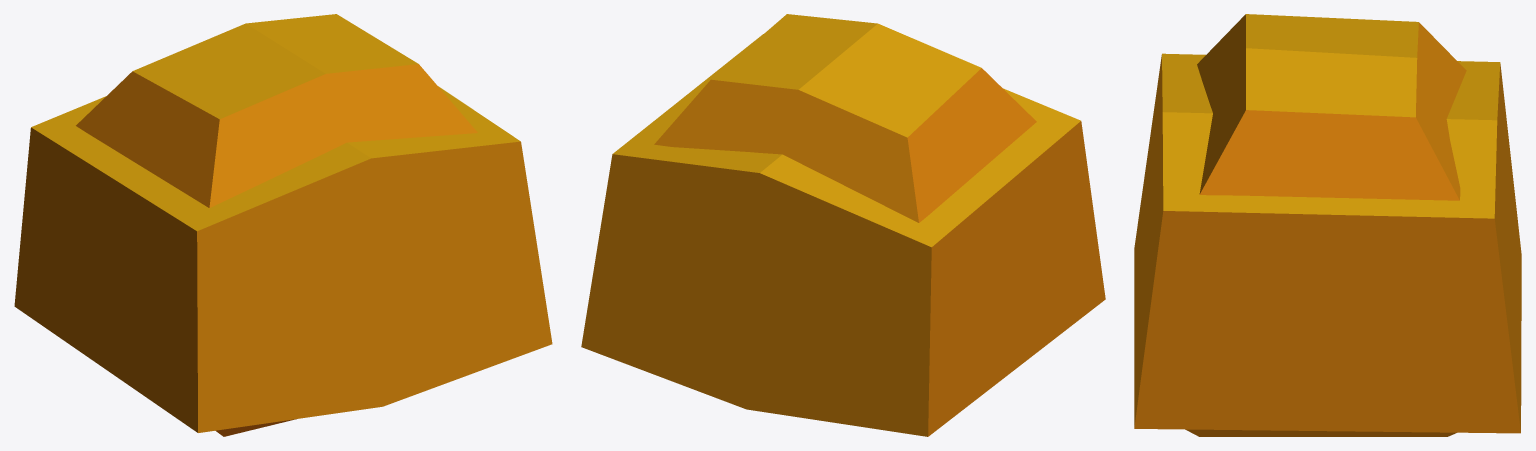
The model's file is SF_Env_Tree_Fall_09.fbx.
3 views of the same model, side by side, from view 1: azimuth 30°, elevation 25°; view 2: azimuth 150°, elevation 25°; view 3: azimuth 270°, elevation 25° (orthographic). The views are drawn at different scales.
Visible parts, largest first — view 1: SF_Env_Tree_Fall_09; view 2: SF_Env_Tree_Fall_09; view 3: SF_Env_Tree_Fall_09.
Part boxes in pixels (x1=…): SF_Env_Tree_Fall_09: x1=14, y1=14, x2=552, y2=436; SF_Env_Tree_Fall_09: x1=581, y1=14, x2=1105, y2=436; SF_Env_Tree_Fall_09: x1=1134, y1=14, x2=1521, y2=436.
Bounding box in the file's own units: 2.69 × 2.29 × 2.4.
